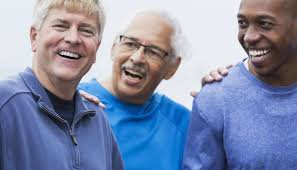noMask: (20, 2, 110, 84), (114, 6, 191, 99), (233, 1, 297, 81)
